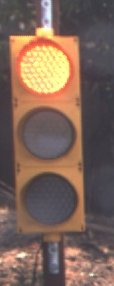Red: (6, 27, 103, 264)
